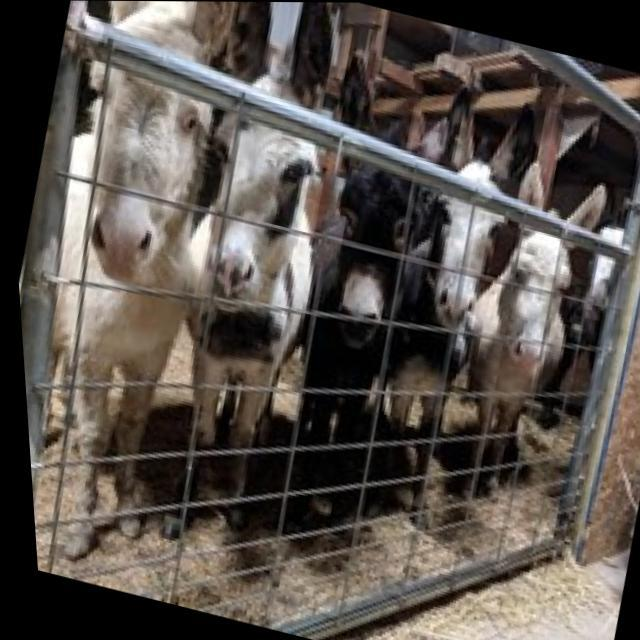Donkey: (0, 0, 287, 564), (104, 1, 389, 526), (237, 138, 452, 490), (402, 146, 605, 487), (346, 112, 539, 422), (484, 157, 640, 512)
